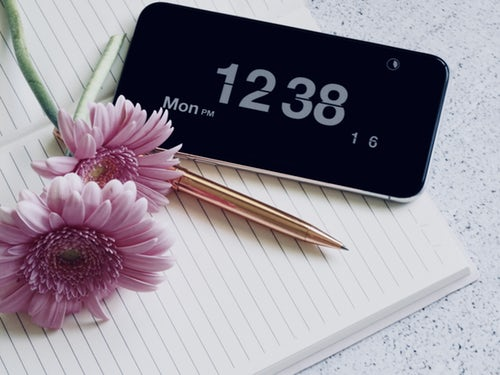phone: (119, 2, 452, 204)
